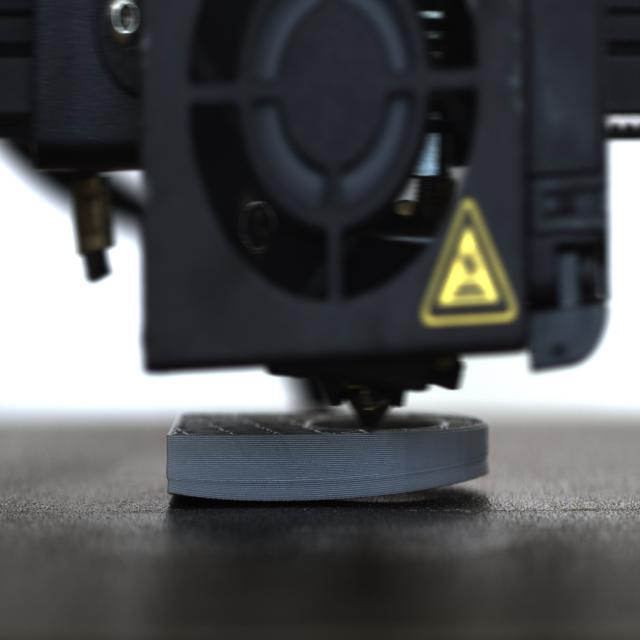Warping: (396, 458, 498, 502), (161, 479, 224, 506)
